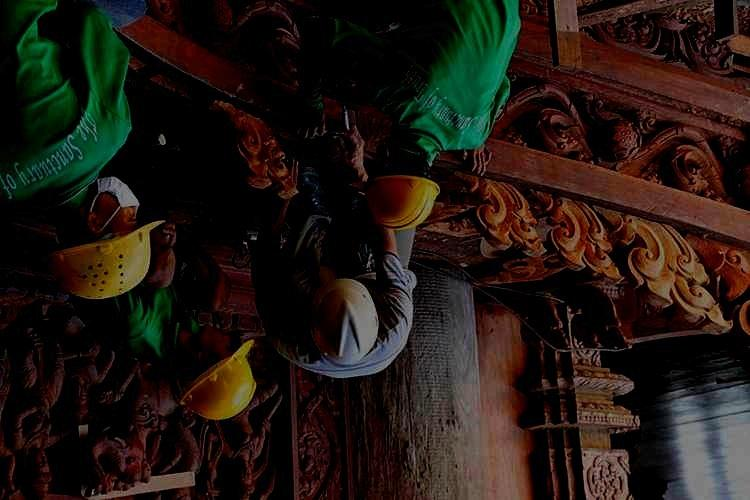helmet: (42, 177, 167, 301), (350, 139, 442, 231), (177, 326, 259, 422), (309, 279, 380, 365)
